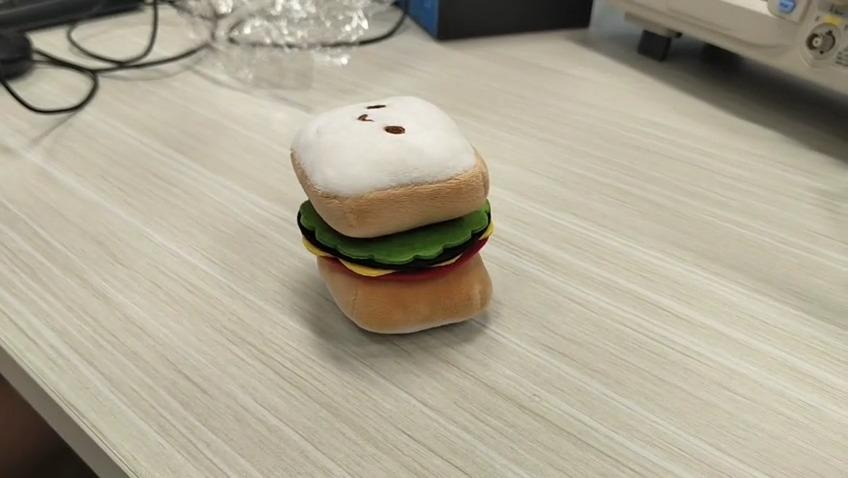objects: (290, 99, 496, 335)
